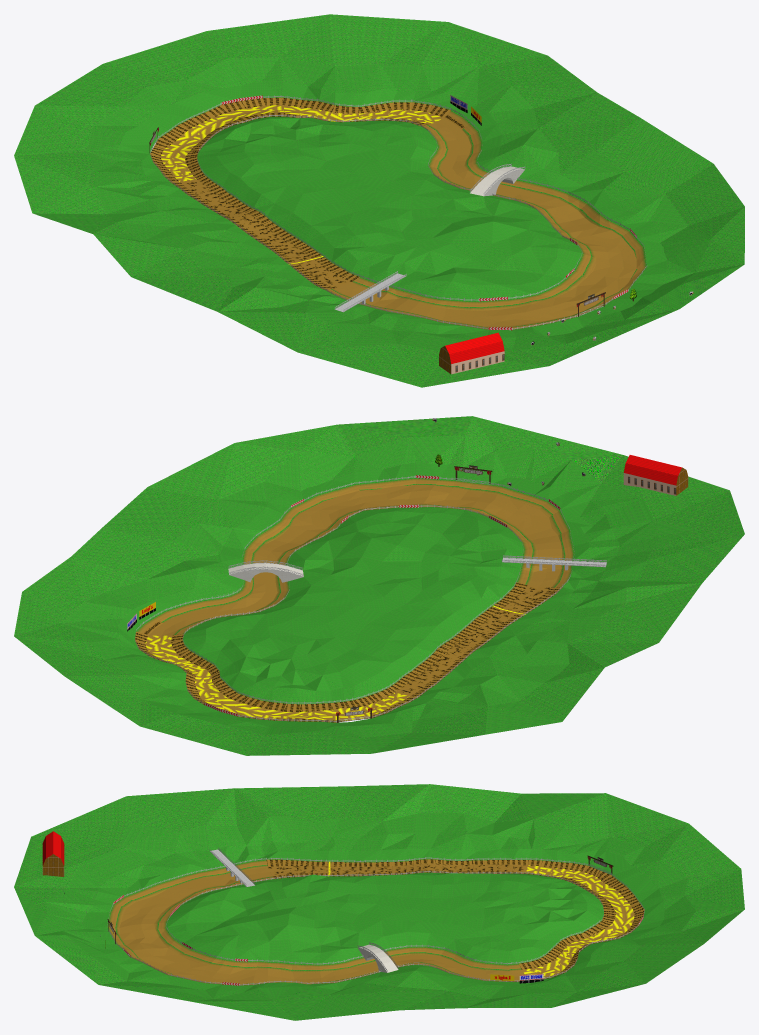
Rendered from moomoofarm.fbx.
3 views of the same model, one above another, from view 1: azimuth 30°, elevation 25°; view 2: azimuth 150°, elevation 25°; view 3: azimuth 270°, elevation 25° (orthographic). The views are drawn at different scales.
Visible parts, largest first — view 1: MARIOKART64 (n64_scene.4).020, MARIOKART64 (n64_scene.4).012, MARIOKART64 (n64_scene.4).013, MARIOKART64 (n64_scene.4).017, MARIOKART64 (n64_scene.4).019, MARIOKART64 (n64_scene.4).011, MARIOKART64 (n64_scene.4).016, MARIOKART64 (n64_scene.4).026, MARIOKART64 (n64_scene.4).009; view 2: MARIOKART64 (n64_scene.4).020, MARIOKART64 (n64_scene.4).012, MARIOKART64 (n64_scene.4).013, MARIOKART64 (n64_scene.4).017, MARIOKART64 (n64_scene.4).019, MARIOKART64 (n64_scene.4).011, MARIOKART64 (n64_scene.4).016, MARIOKART64 (n64_scene.4).009, MARIOKART64 (n64_scene.4).026, MARIOKART64 (n64_scene.4).028; view 3: MARIOKART64 (n64_scene.4).020, MARIOKART64 (n64_scene.4).012, MARIOKART64 (n64_scene.4).013, MARIOKART64 (n64_scene.4).017, MARIOKART64 (n64_scene.4).011, MARIOKART64 (n64_scene.4).019, MARIOKART64 (n64_scene.4).016, MARIOKART64 (n64_scene.4).026, MARIOKART64 (n64_scene.4).009, MARIOKART64 (n64_scene.4).027.
Boxes of the visible parts, x1,y1,x2,y2 form: MARIOKART64 (n64_scene.4).020: [14, 14, 744, 387]; MARIOKART64 (n64_scene.4).012: [334, 118, 636, 326]; MARIOKART64 (n64_scene.4).013: [323, 110, 646, 329]; MARIOKART64 (n64_scene.4).017: [150, 97, 450, 289]; MARIOKART64 (n64_scene.4).019: [160, 105, 442, 263]; MARIOKART64 (n64_scene.4).011: [150, 95, 647, 329]; MARIOKART64 (n64_scene.4).016: [180, 179, 350, 288]; MARIOKART64 (n64_scene.4).026: [445, 332, 504, 363]; MARIOKART64 (n64_scene.4).009: [150, 136, 603, 316]; MARIOKART64 (n64_scene.4).020: [14, 416, 744, 755]; MARIOKART64 (n64_scene.4).012: [149, 484, 561, 635]; MARIOKART64 (n64_scene.4).013: [136, 478, 574, 634]; MARIOKART64 (n64_scene.4).017: [135, 582, 562, 722]; MARIOKART64 (n64_scene.4).019: [145, 608, 517, 720]; MARIOKART64 (n64_scene.4).011: [135, 476, 574, 722]; MARIOKART64 (n64_scene.4).016: [395, 585, 550, 696]; MARIOKART64 (n64_scene.4).009: [228, 478, 606, 722]; MARIOKART64 (n64_scene.4).026: [623, 455, 681, 485]; MARIOKART64 (n64_scene.4).028: [623, 473, 676, 495]; MARIOKART64 (n64_scene.4).020: [14, 784, 744, 1020]; MARIOKART64 (n64_scene.4).012: [119, 867, 524, 984]; MARIOKART64 (n64_scene.4).013: [107, 860, 521, 985]; MARIOKART64 (n64_scene.4).017: [266, 859, 644, 979]; MARIOKART64 (n64_scene.4).011: [107, 857, 644, 985]; MARIOKART64 (n64_scene.4).019: [327, 865, 634, 977]; MARIOKART64 (n64_scene.4).016: [268, 863, 527, 876]; MARIOKART64 (n64_scene.4).026: [42, 831, 64, 865]; MARIOKART64 (n64_scene.4).009: [108, 847, 611, 971]; MARIOKART64 (n64_scene.4).027: [42, 854, 64, 876].
Bounding box in the file's own units: 413000 × 29000 × 541300.
40 materials, 40 textured.
